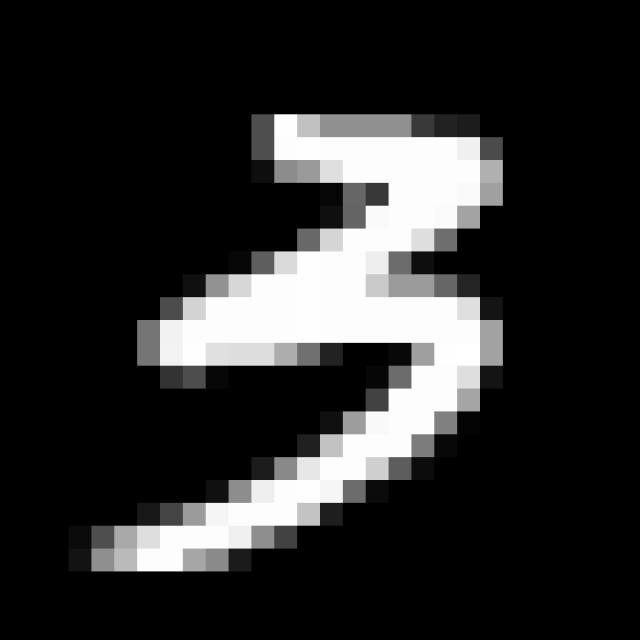three -3-: (71, 101, 522, 591)
